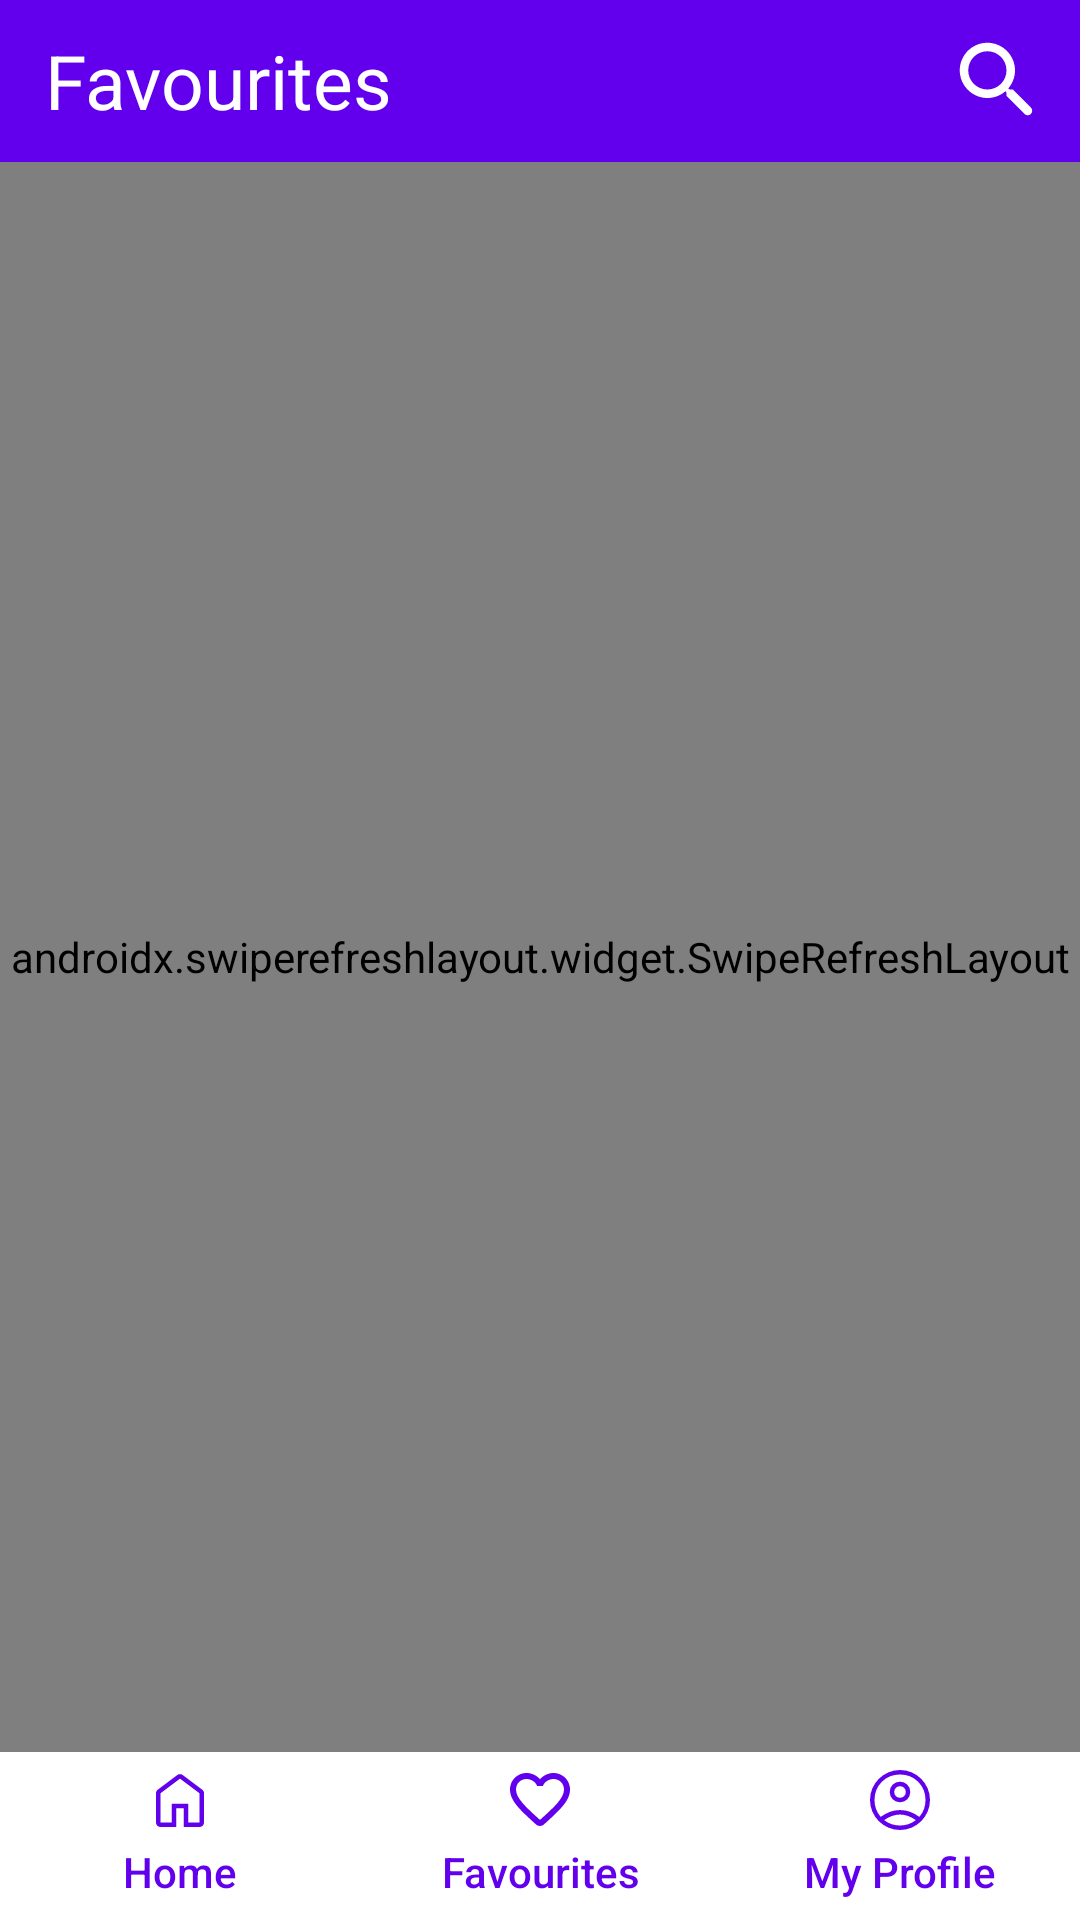

Icons on this 1080*1920 Android screen, each with the point to tap as point (x, y):
search: point (996, 79)
